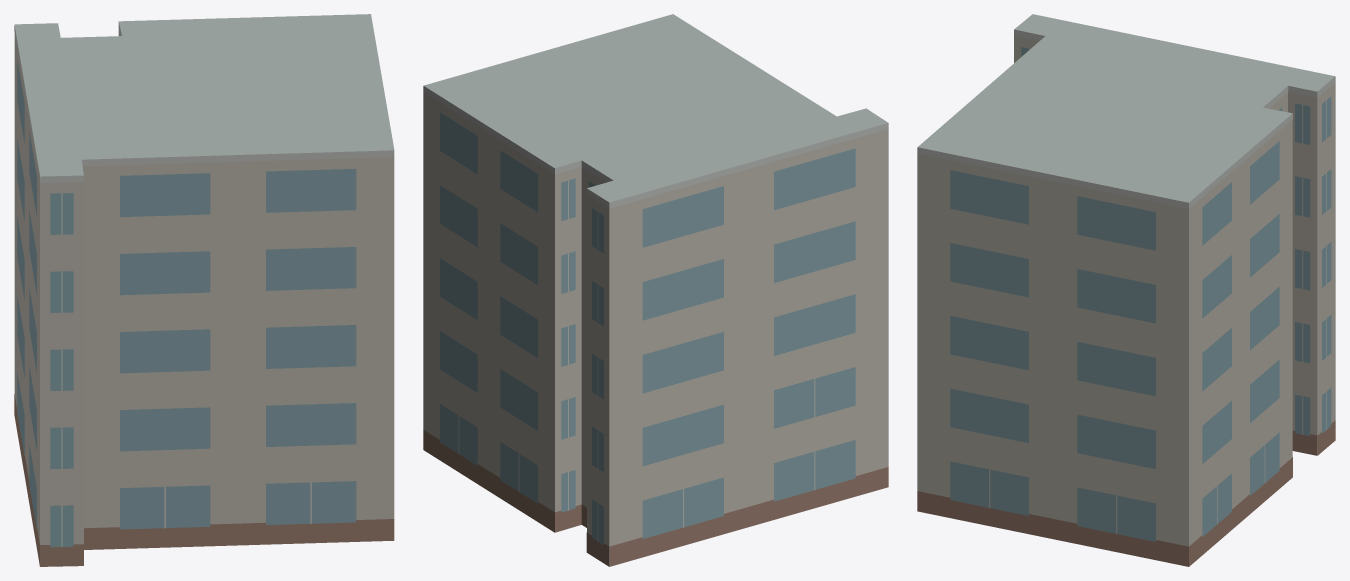
Rendered from survey-upis-32633246.glb.
3 renders of one model, left to right at view 1: azimuth 30°, elevation 25°; view 2: azimuth 150°, elevation 25°; view 3: azimuth 270°, elevation 25°, orthographic. The views are drawn at different scales.
Parts seen in each view (by area): view 1: survey-upis-32633246.tmp; view 2: survey-upis-32633246.tmp; view 3: survey-upis-32633246.tmp.
Part boxes in pixels (x1,y1,x2,y2): survey-upis-32633246.tmp: (14, 14, 394, 566); survey-upis-32633246.tmp: (423, 14, 888, 566); survey-upis-32633246.tmp: (917, 14, 1335, 566).
Size of the model in its own units: 16.07 by 14.45 by 15.05.
